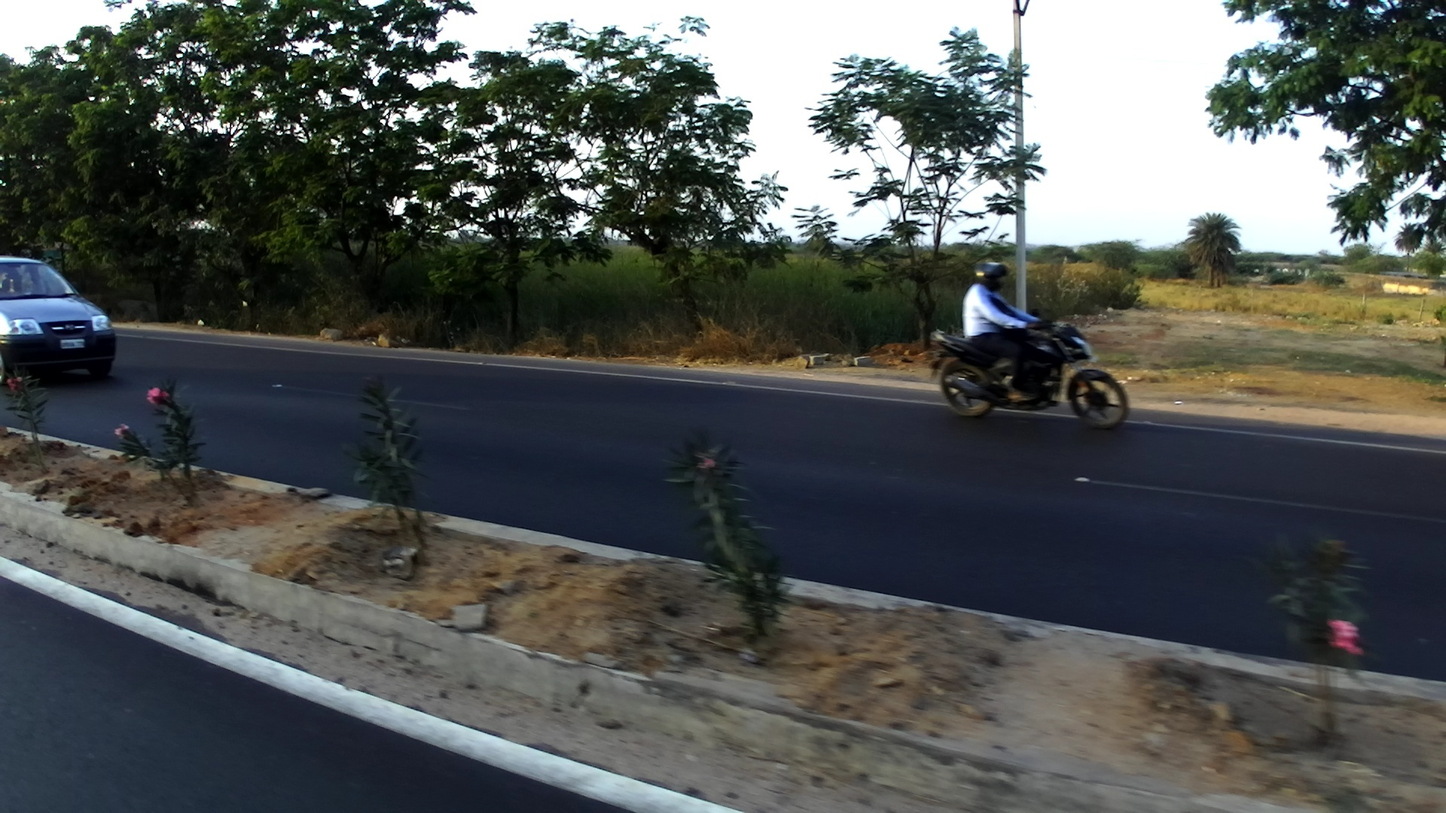car: (2, 256, 118, 379)
motorcycle: (927, 307, 1129, 433)
rider: (958, 257, 1051, 403)
